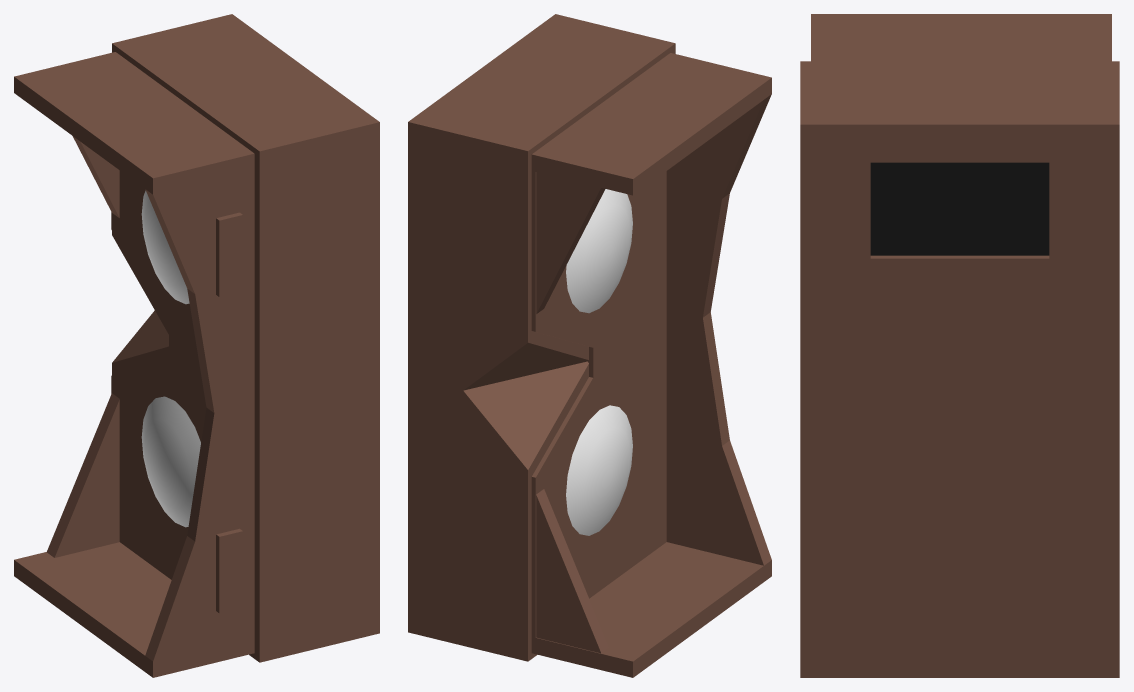
3 renders of one model, left to right at view 1: azimuth 30°, elevation 25°; view 2: azimuth 150°, elevation 25°; view 3: azimuth 270°, elevation 25°, orthographic. The views are drawn at different scales.
Visible parts, largest first — view 1: Google:pCube58; view 2: Google:pCube58; view 3: Google:pCube58.
Part boxes in pixels (left/top/right/bottom): Google:pCube58: left=14, top=14, right=379, bottom=677; Google:pCube58: left=408, top=14, right=771, bottom=677; Google:pCube58: left=800, top=14, right=1119, bottom=677.
Size of the model in its own units: 35.56 by 78.31 by 41.01.
